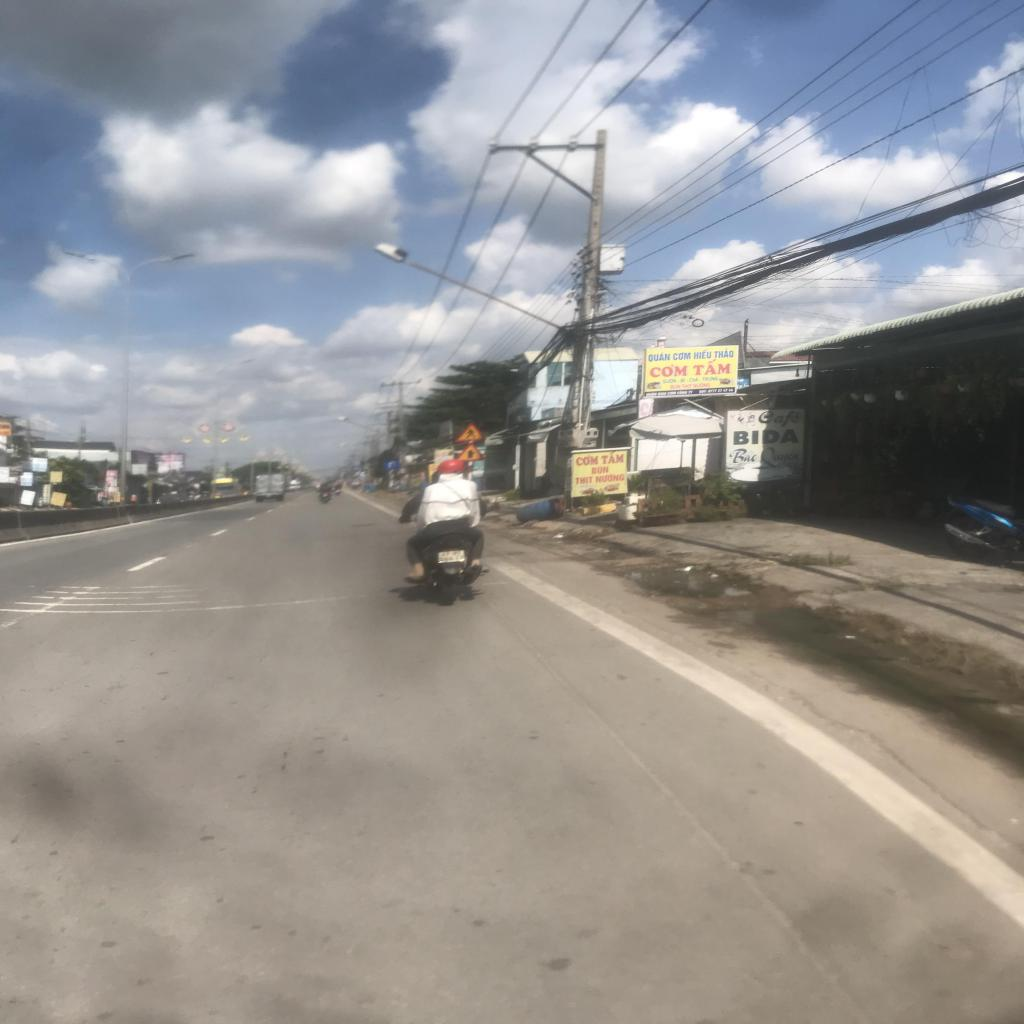cho_quay_xe: (385, 460, 400, 470)
chu_y_nguoi_di_bo_cat_ngang: (454, 422, 486, 442)
giao_nhau_voi_duong_khong_uu_tien: (456, 442, 486, 462)
